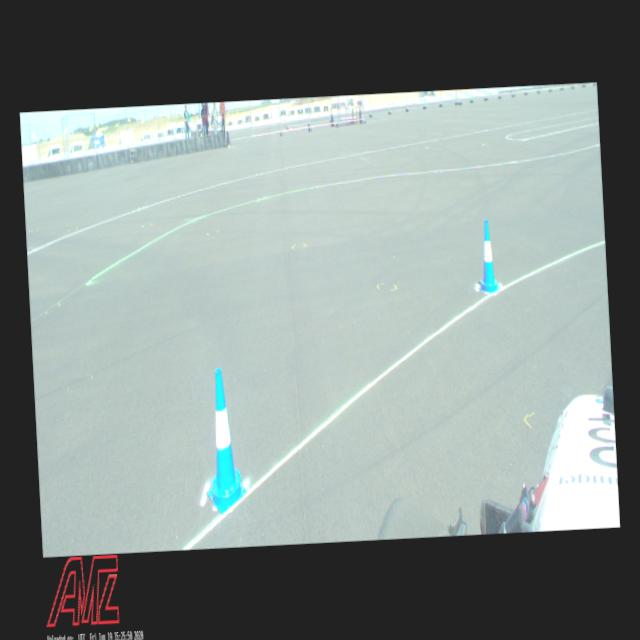blue_cone: (201, 367, 248, 515), (476, 219, 501, 294)
